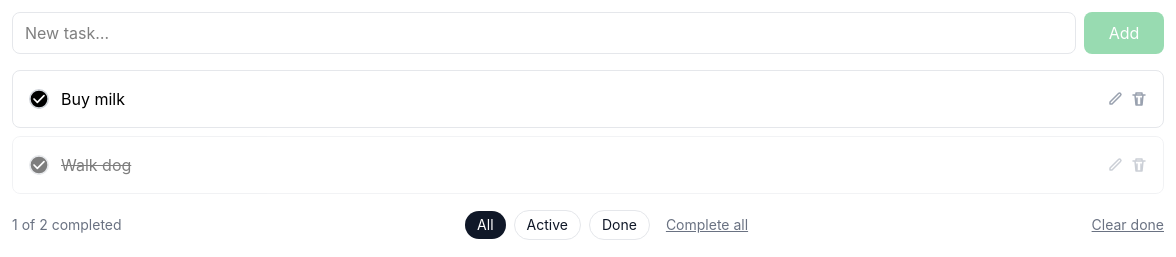
TaskList › all tasks are shown when switching back to the All filter
This screenshot has width=1176, height=257.
expect the text "Buy milk" is shown: met, box [61, 89, 125, 109]
Click the button "Active": (547, 225) [514, 210, 581, 240]
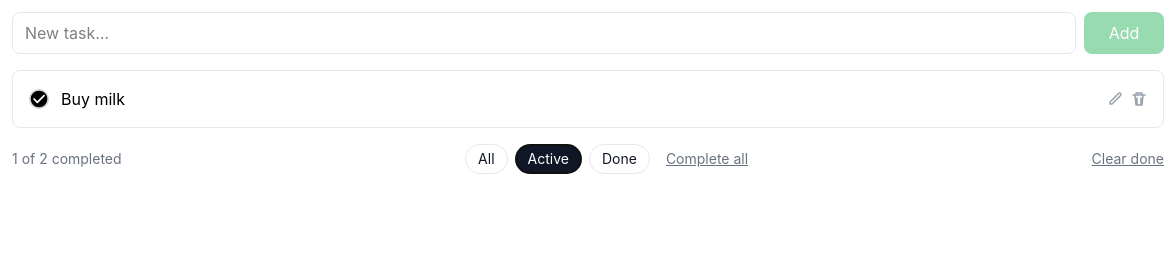
Click the button "All": (486, 159) [465, 144, 508, 174]
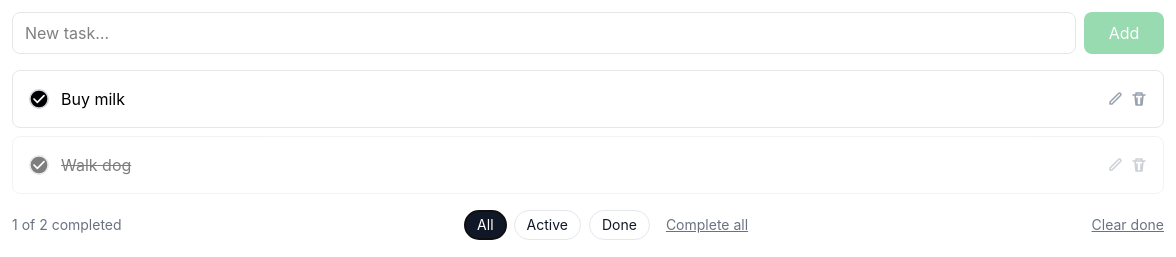
expect the text "Buy milk" is shown: met, box [61, 89, 125, 109]
expect the text "Walk dog" is shown: met, box [61, 155, 131, 175]
